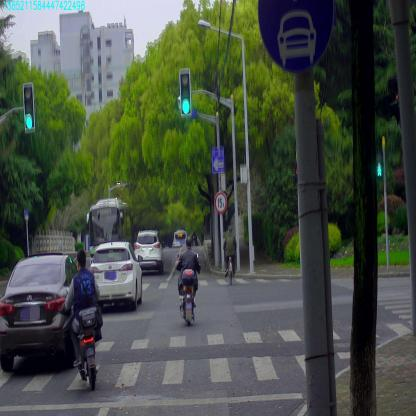traffic-light: (23, 85, 34, 131), (180, 70, 191, 115)
